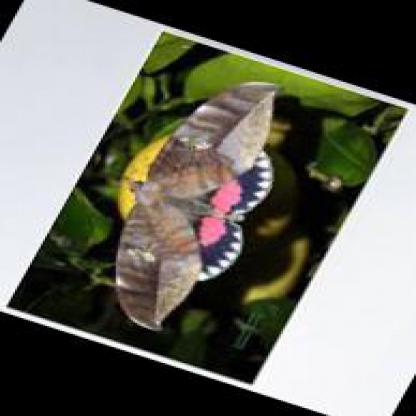fruit sucking moth: (112, 79, 286, 327)
